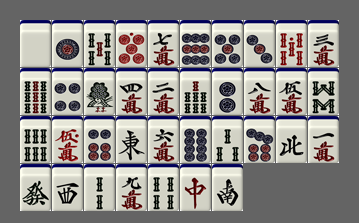0m: (52, 116, 83, 163)
0p: (116, 20, 147, 67)
0s: (276, 20, 307, 67)
1m: (308, 116, 339, 163)
1p: (52, 20, 83, 67)
1s: (84, 68, 115, 115)
1z: (116, 116, 147, 163)
2m: (148, 68, 179, 115)
2p: (212, 68, 243, 115)
2s: (84, 164, 115, 211)
2z: (212, 164, 243, 211)
3m: (308, 20, 339, 67)
3p: (244, 20, 275, 67)
3s: (212, 116, 243, 163)
3z: (52, 164, 83, 211)
4m: (116, 68, 147, 115)
4p: (52, 68, 83, 115)
4s: (148, 164, 179, 211)
4z: (276, 116, 307, 163)
5m: (276, 68, 307, 115)
5p: (212, 20, 243, 67)
5s: (84, 20, 115, 67)
5z: (20, 20, 51, 67)
6m: (148, 116, 179, 163)
6p: (84, 116, 115, 163)
6s: (20, 116, 51, 163)
6z: (20, 164, 51, 211)
7m: (148, 20, 179, 67)
7p: (244, 116, 275, 163)
7s: (180, 68, 211, 115)
7z: (180, 164, 211, 211)
8m: (244, 68, 275, 115)
8p: (180, 116, 211, 163)
8s: (308, 68, 339, 115)
9m: (116, 164, 147, 211)
9p: (180, 20, 211, 67)
9s: (20, 68, 51, 115)
